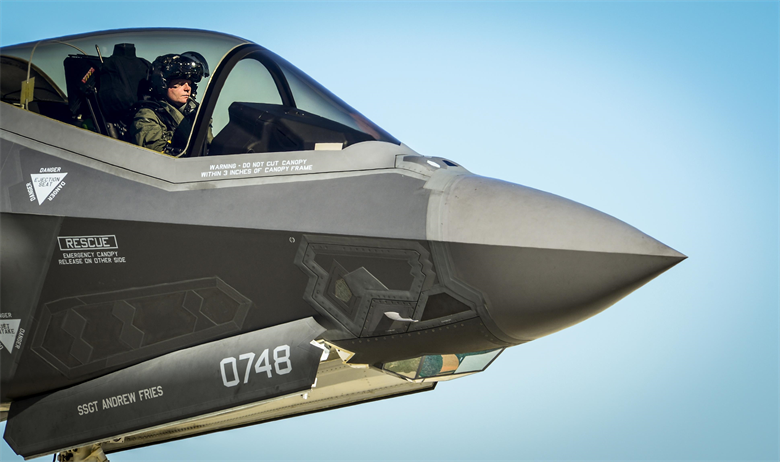F-35 Lightning: (1, 10, 698, 448)
